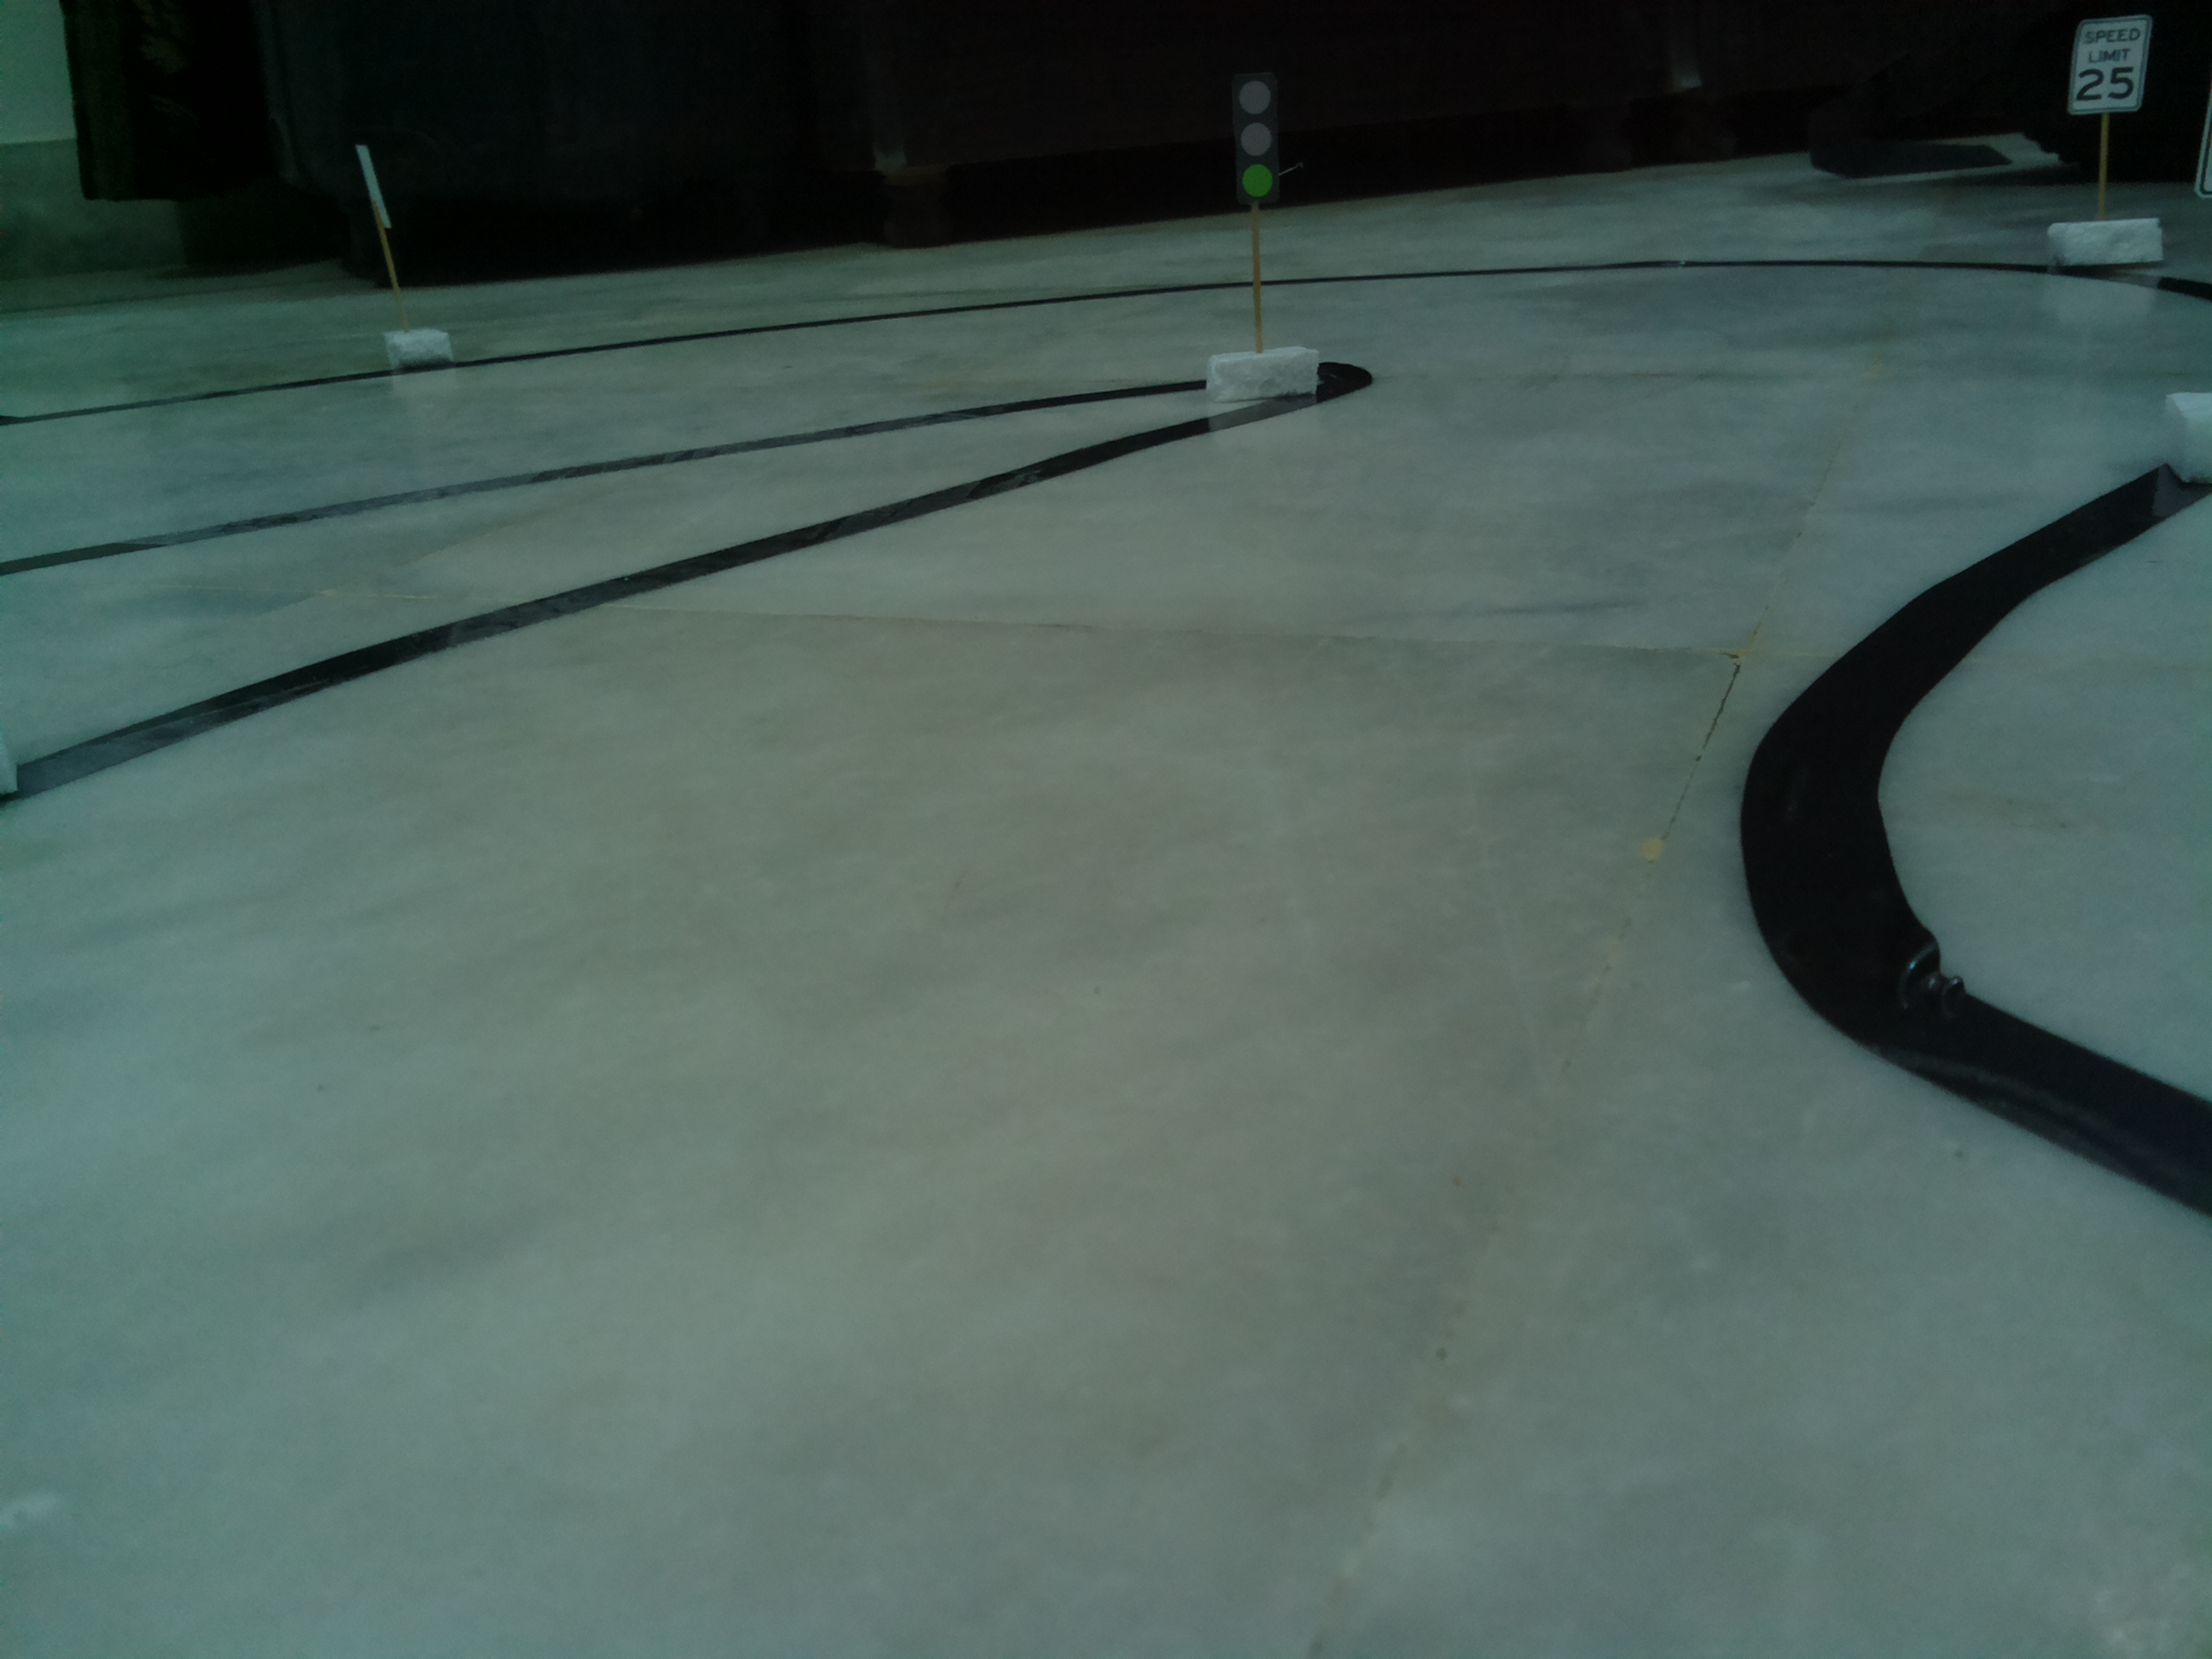Green traffic light: (1226, 71, 1287, 204)
Speed limit 25: (2064, 17, 2156, 122)
